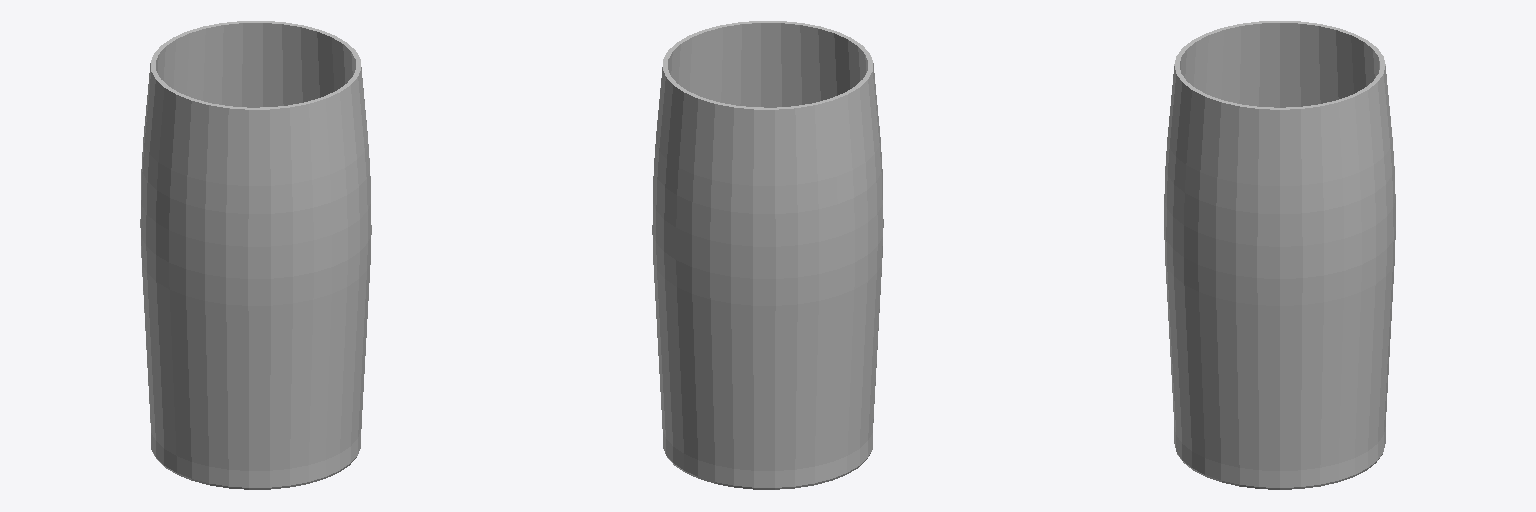
File: Glass 2.obj
3 views of the same model, side by side, from view 1: azimuth 30°, elevation 25°; view 2: azimuth 150°, elevation 25°; view 3: azimuth 270°, elevation 25° (orthographic).
Visible parts, largest first — view 1: Cylinder_Cylinder.002; view 2: Cylinder_Cylinder.002; view 3: Cylinder_Cylinder.002.
Part boxes in pixels (x1,y1,x2,y2): Cylinder_Cylinder.002: (140, 21, 371, 489); Cylinder_Cylinder.002: (652, 21, 883, 489); Cylinder_Cylinder.002: (1164, 21, 1395, 489).
Bounding box in the file's own units: 0.086 × 0.1564 × 0.086.